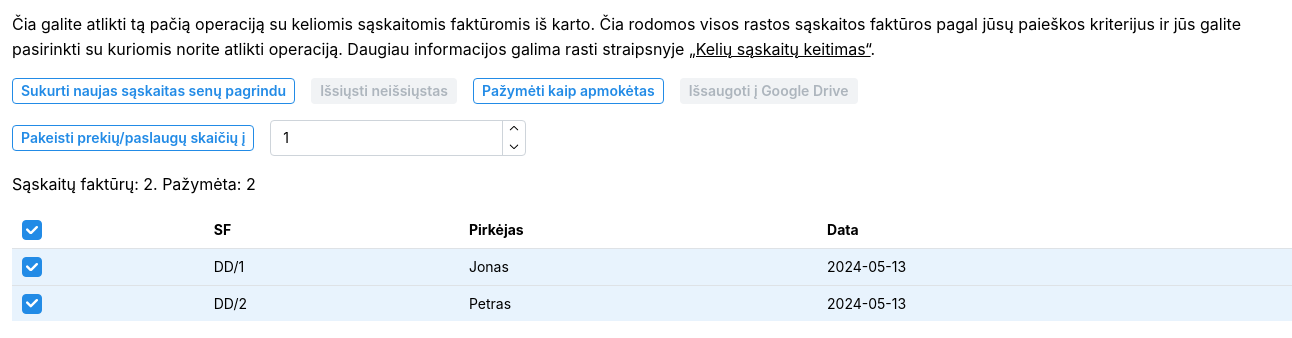
Test: allows to deselect invoice row
Step 1. Click the checkbox with test id "invoice-check-1" → coordinates (32, 267), box [22,257,42,277]
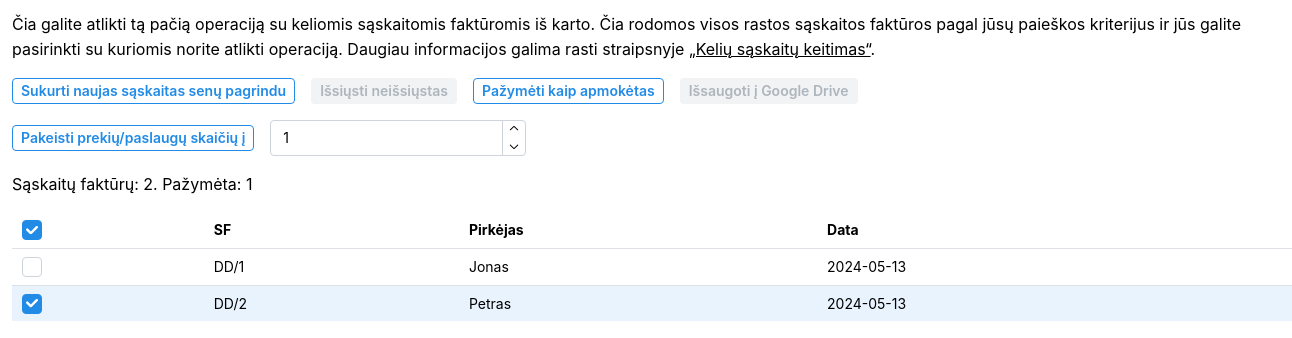
Expected: the checkbox with test id "invoice-check-1" is not checked, [22,257,42,277]
Expected: the text with test id "invoiceCount" reads "Sąskaitų faktūrų: 2. Pažymėta: 1", [12,174,252,194]
